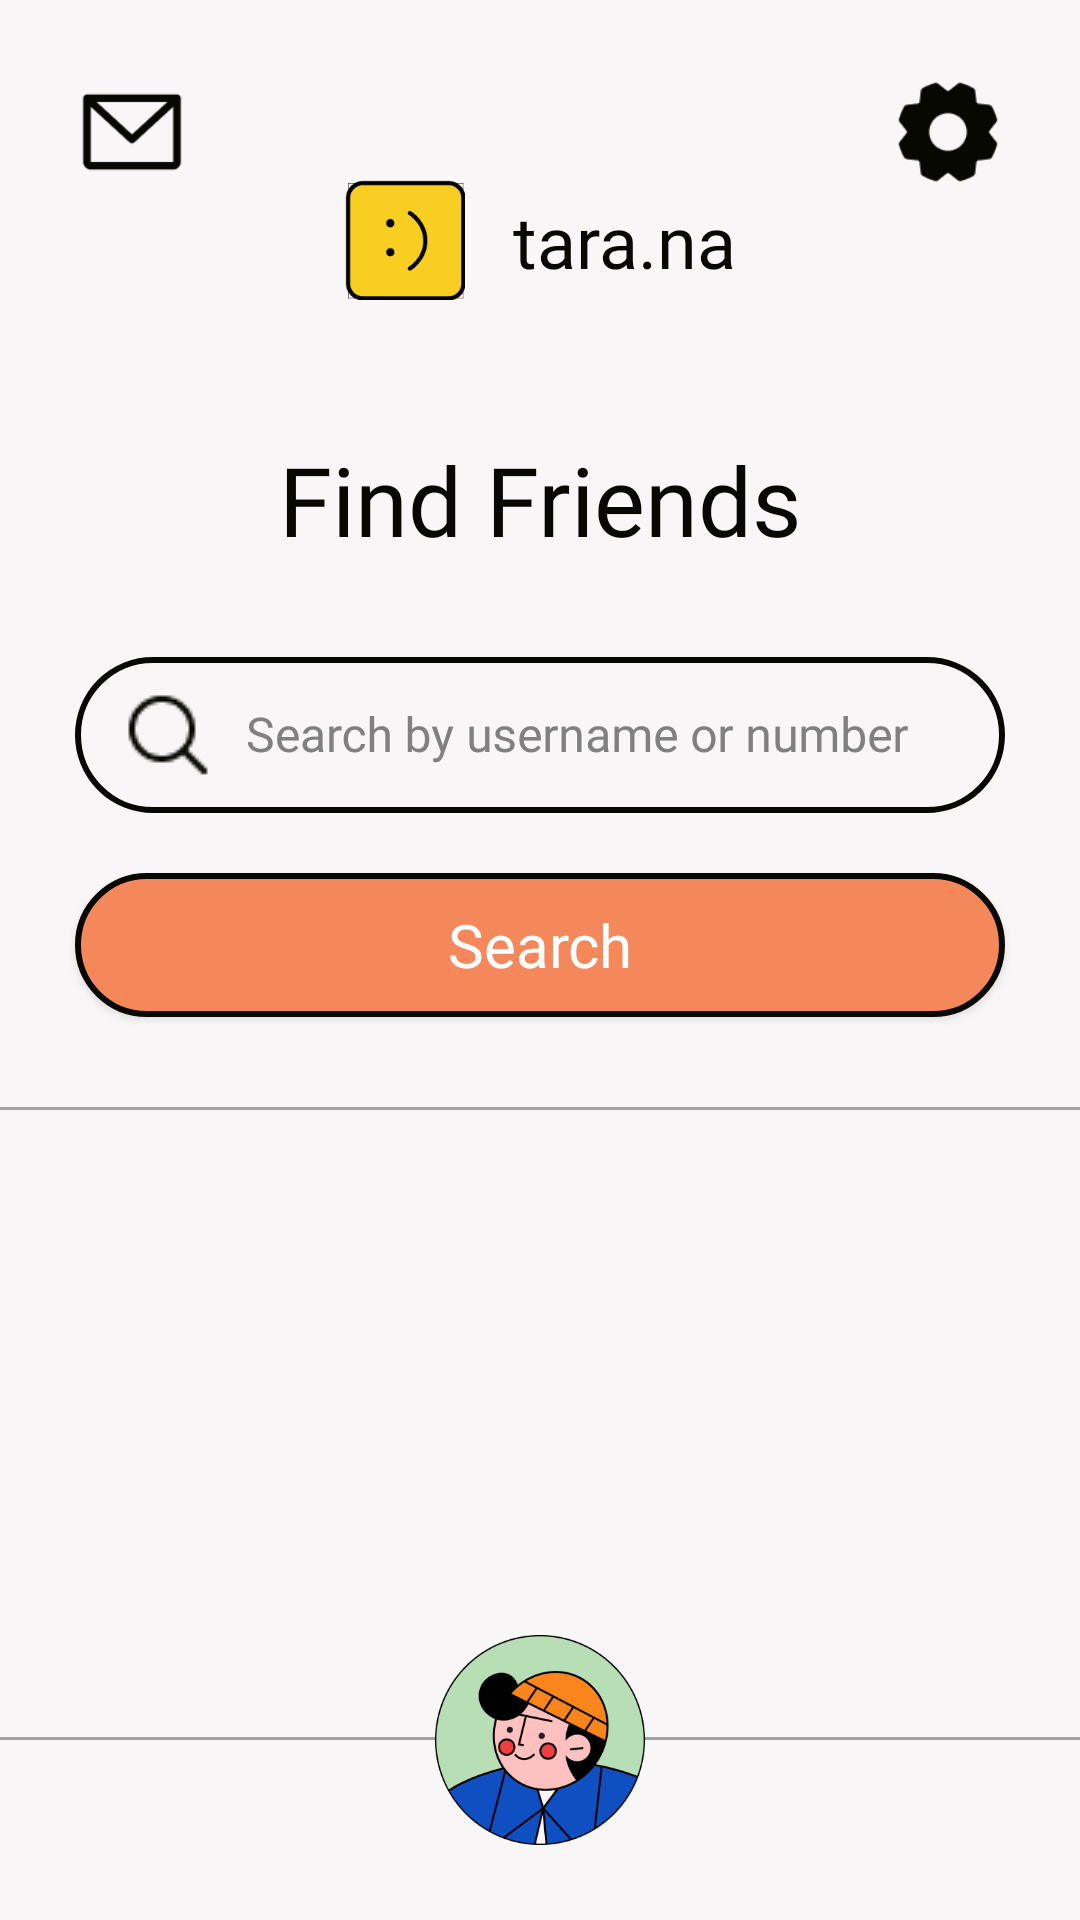

Icons on this 1080*1920 Android screen, each with its box as [left=x1, top=y1, right=x2, bottom=y2]:
inbox: [left=82, top=93, right=182, bottom=171]
profile: [left=435, top=1635, right=645, bottom=1845]
settings: [left=898, top=82, right=998, bottom=182]
